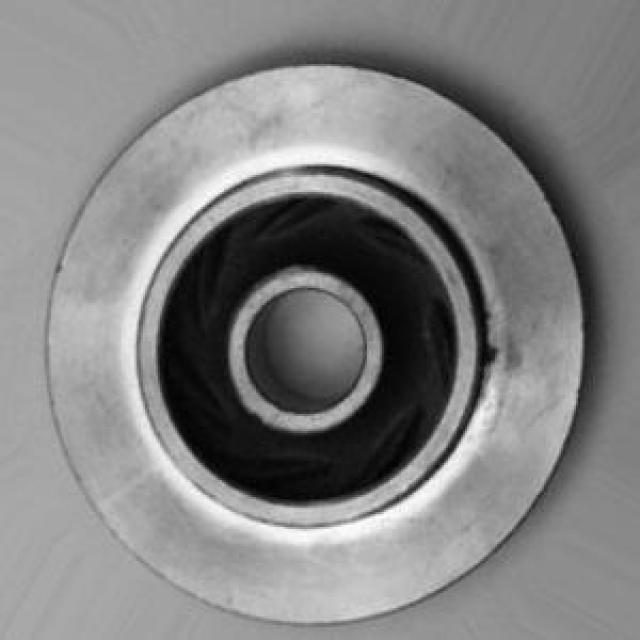Defect: (480, 336, 510, 376)
